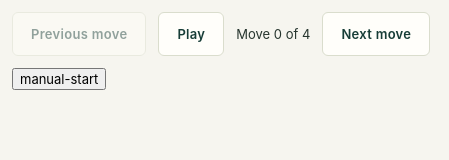
Test: stops immediately, retains position and does not advance further
The image size is (449, 160).
Step 1. Click the button "Play" → (191, 34), box [158, 12, 224, 56]
Wait 2000 ms
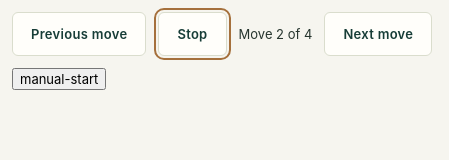
Expected: the text "Move 2 of 4" is shown, [238, 26, 312, 42]
Step 2. Click the button "Stop" → (192, 34), box [158, 12, 227, 56]
Wait 10000 ms
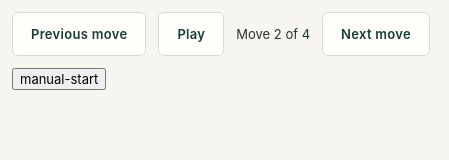
Expected: the text "Move 2 of 4" is shown, [236, 26, 310, 42]
Expected: the button "Play" is shown, [158, 12, 224, 56]
